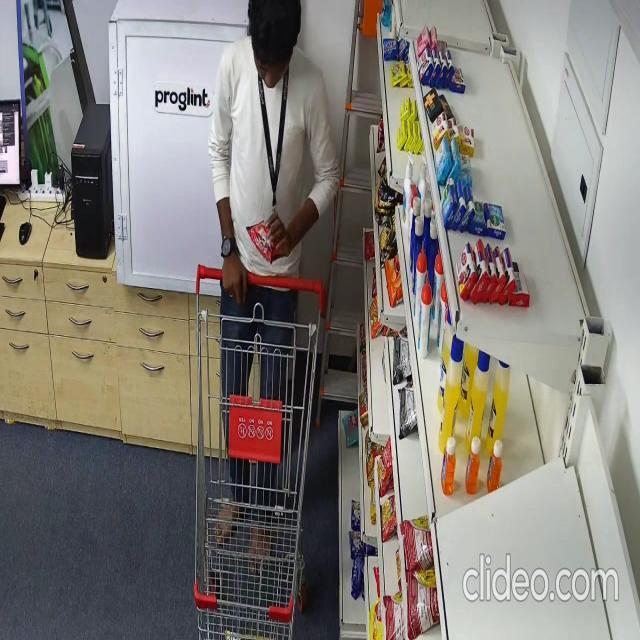normal: (208, 0, 333, 565)
